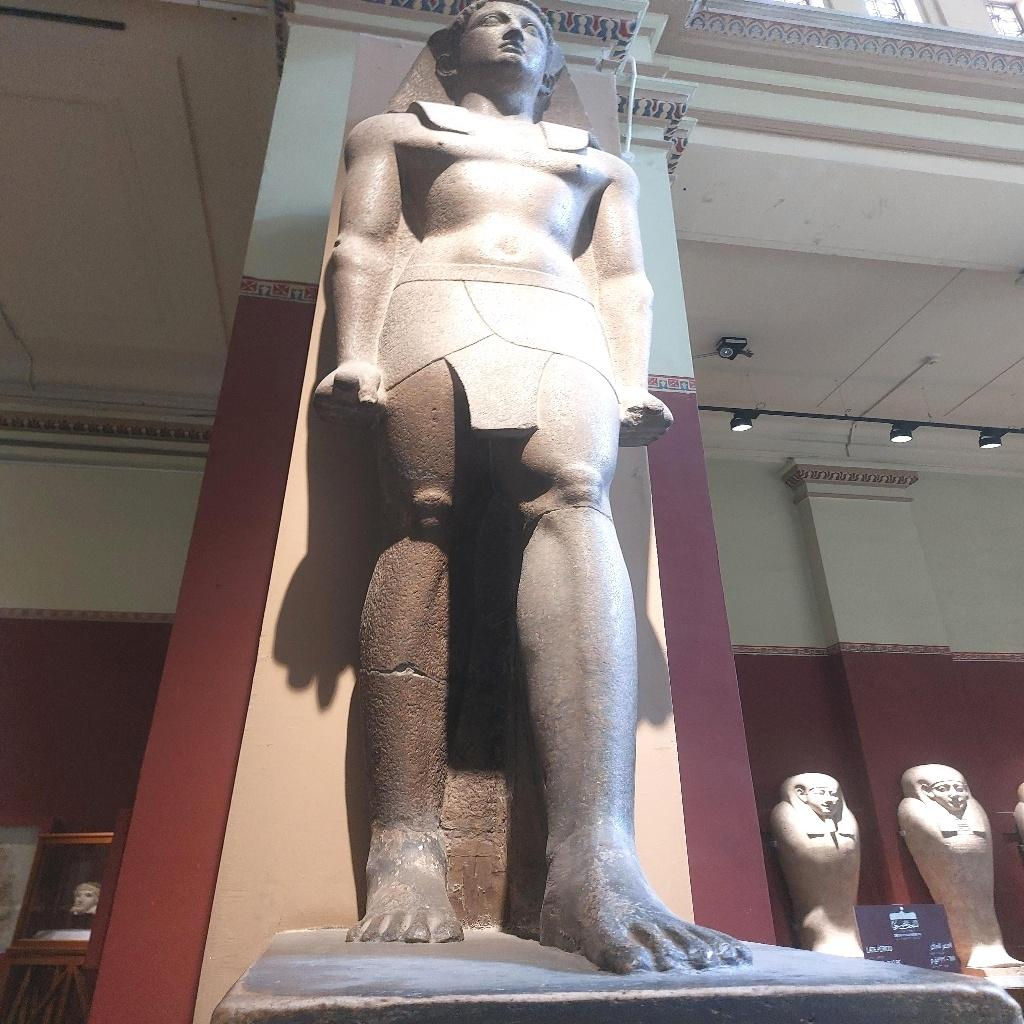Augustus: (308, 0, 756, 974)
